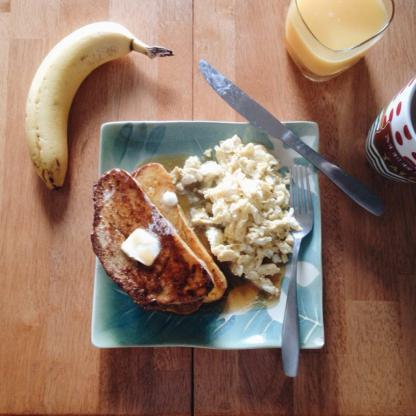Banana: (22, 20, 172, 193)
